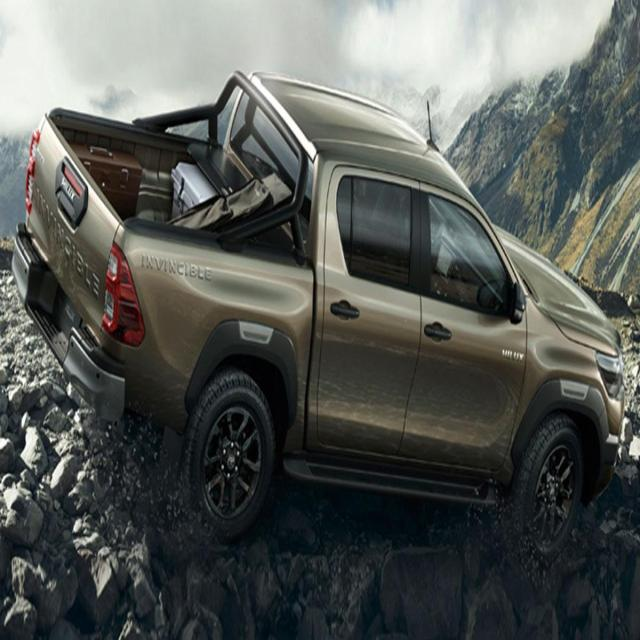truck: (12, 71, 622, 560)
